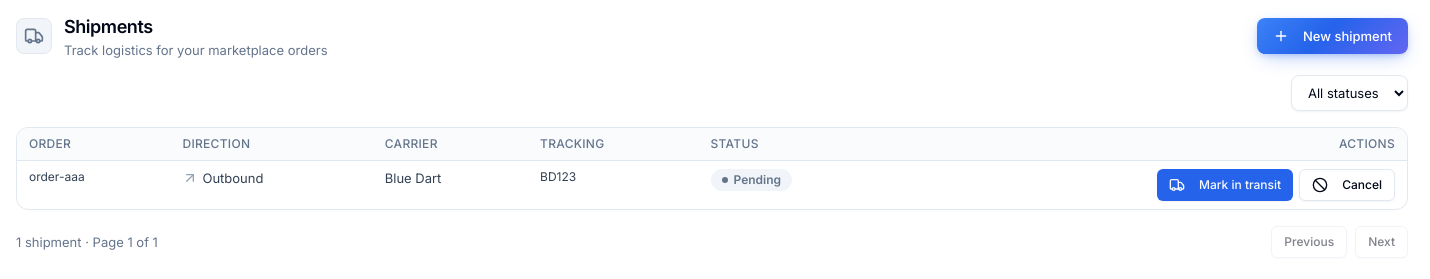
ShipmentsView › surfaces an action error
What coordinates should you click on to do the following:
click the button with aria-label "mark in transit for order order-aaa"
I would click on:
 (1225, 185)
Its box is [1157,169,1293,201].
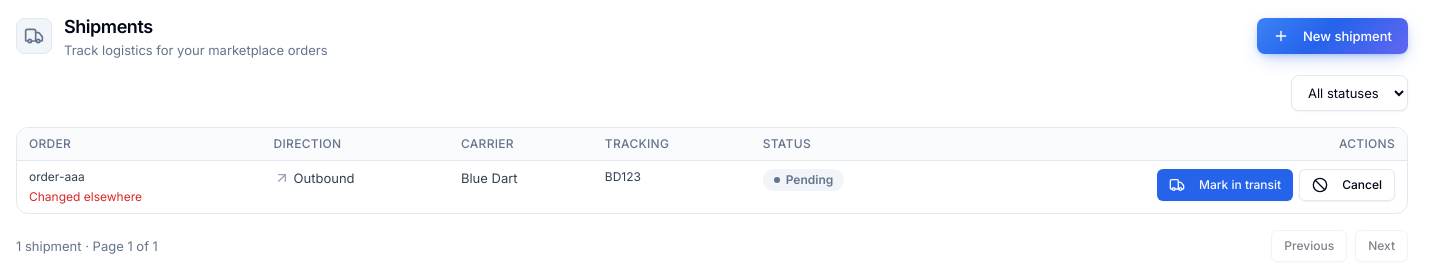
Check: the message reads "Changed elsewhere", box [29,189,142,204]
